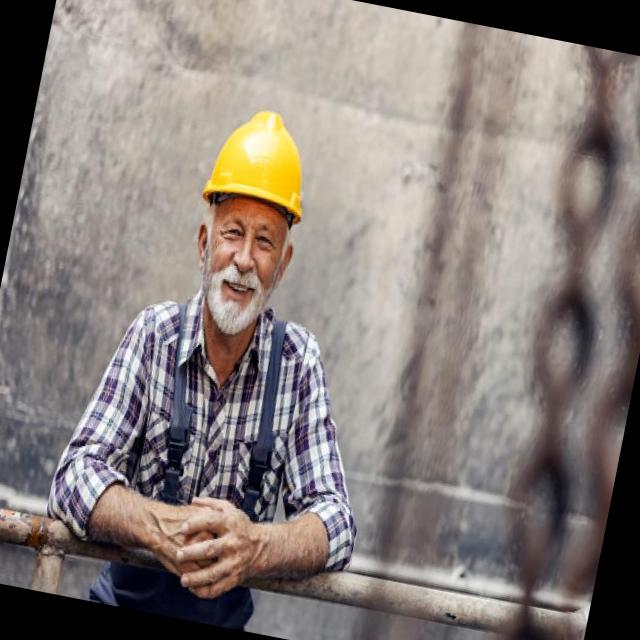Helmet: (196, 100, 320, 234)
